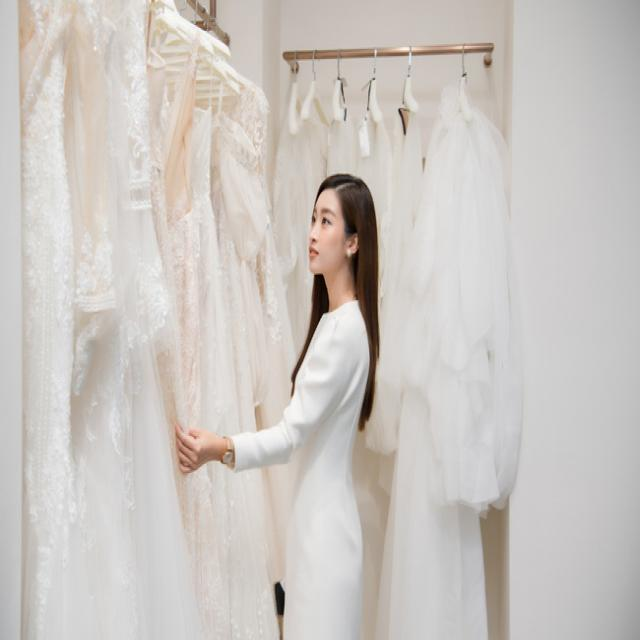clothes: (280, 292, 377, 637)
